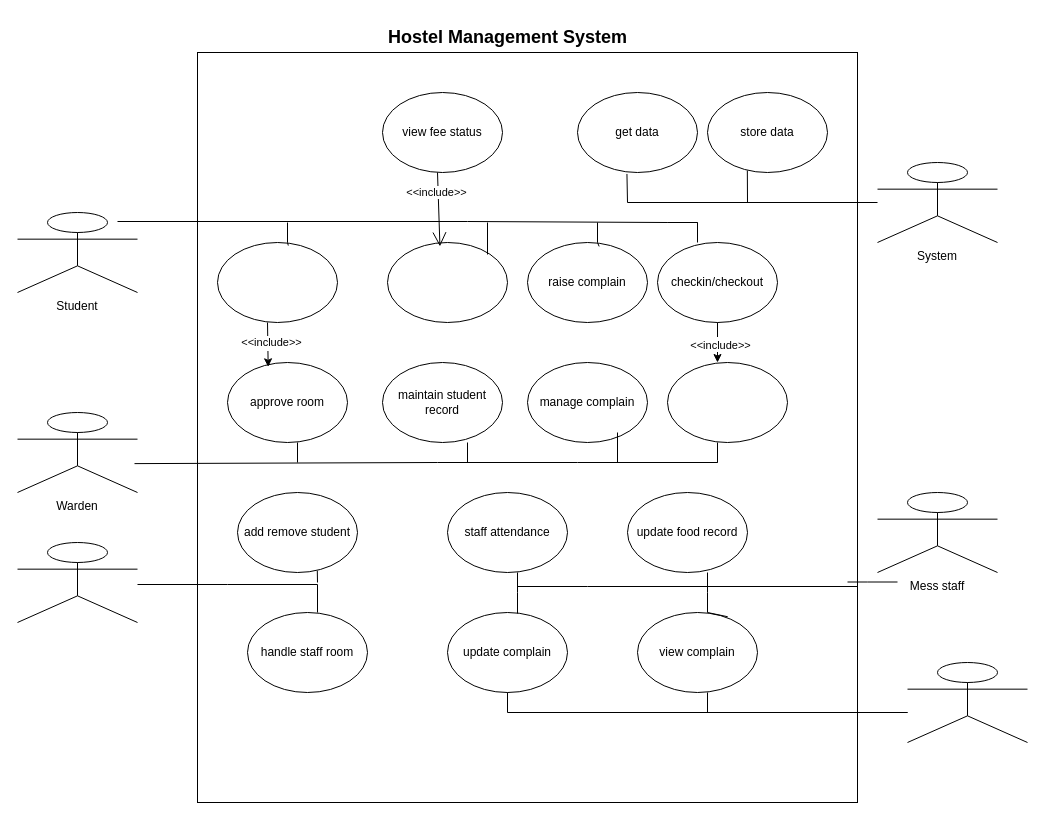
Some shapes in this 1045 by 820 pixel diagram are drawn without their labels. The centre of each missing label's shape, as x and y in pixels:
handle student checkin/checkout: the point at 727,402
Maintenance staff: the point at 967,702
pay fee: the point at 447,282
request room: the point at 277,282
Supervisior: the point at 77,582
